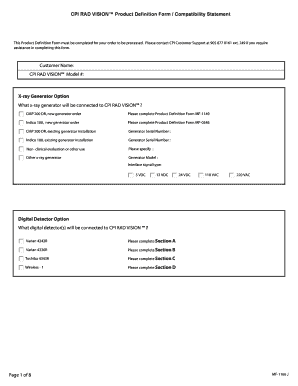checkbox: (16, 152, 26, 163), (125, 171, 137, 180), (16, 145, 27, 154), (16, 245, 26, 254), (170, 170, 178, 181), (16, 236, 25, 245), (18, 118, 26, 128), (16, 255, 26, 263), (196, 170, 204, 179), (150, 171, 156, 182), (18, 109, 26, 117), (229, 173, 237, 181), (17, 265, 26, 272), (18, 137, 25, 144), (17, 129, 25, 135)
